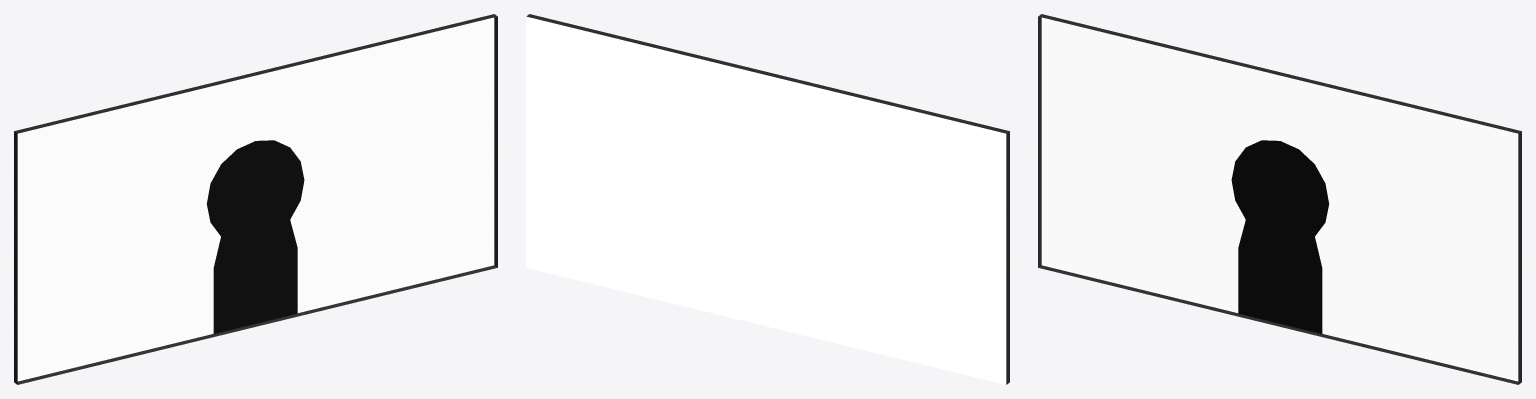
Rendered from window boss.glb.
3 views of the same model, side by side, from view 1: azimuth 30°, elevation 25°; view 2: azimuth 150°, elevation 25°; view 3: azimuth 330°, elevation 25° (orthographic).
Visible parts, largest first — view 1: Plane, Plane.002; view 2: Plane; view 3: Plane, Plane.002.
Boxes of the visible parts, x1,y1,x2,y2 form: Plane: (14,14,497,384); Plane.002: (207,140,304,333); Plane: (526,14,1009,384); Plane: (1038,14,1521,384); Plane.002: (1231,140,1328,333).
Size of the model in its own units: 4 by 2 by 0.0499.
4 materials, 1 textured.
